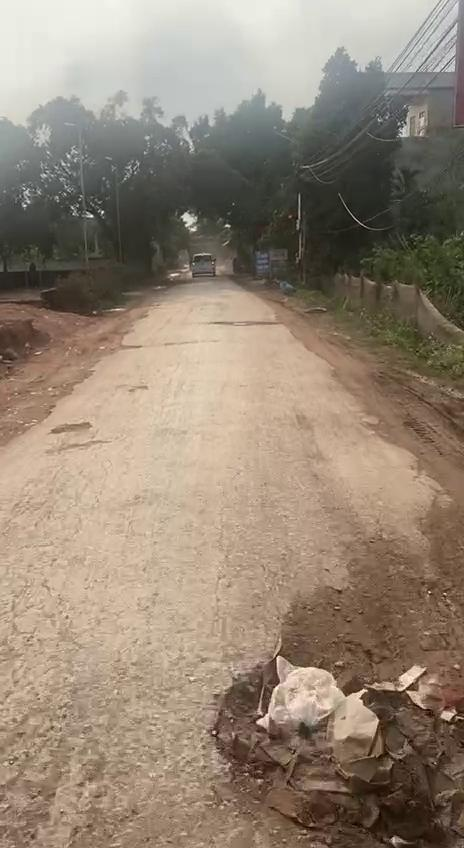pothole: (215, 653, 464, 848)
